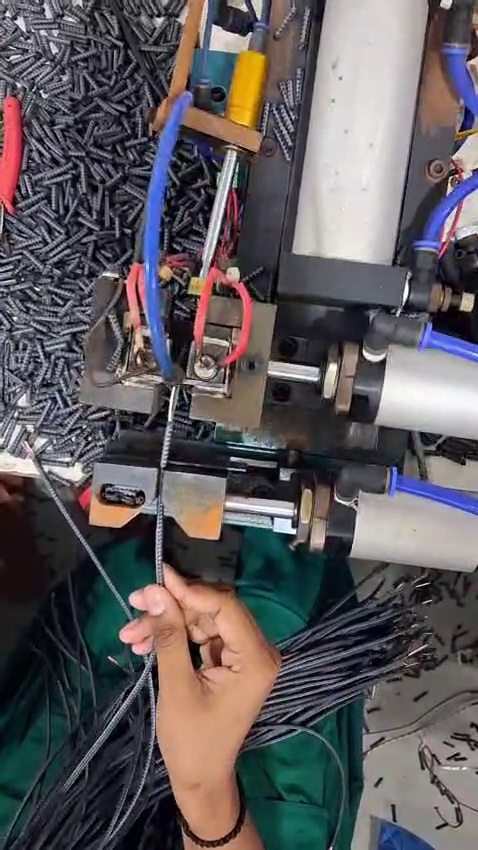machine: (76, 262, 273, 541)
peeled_wire: (155, 370, 199, 456)
